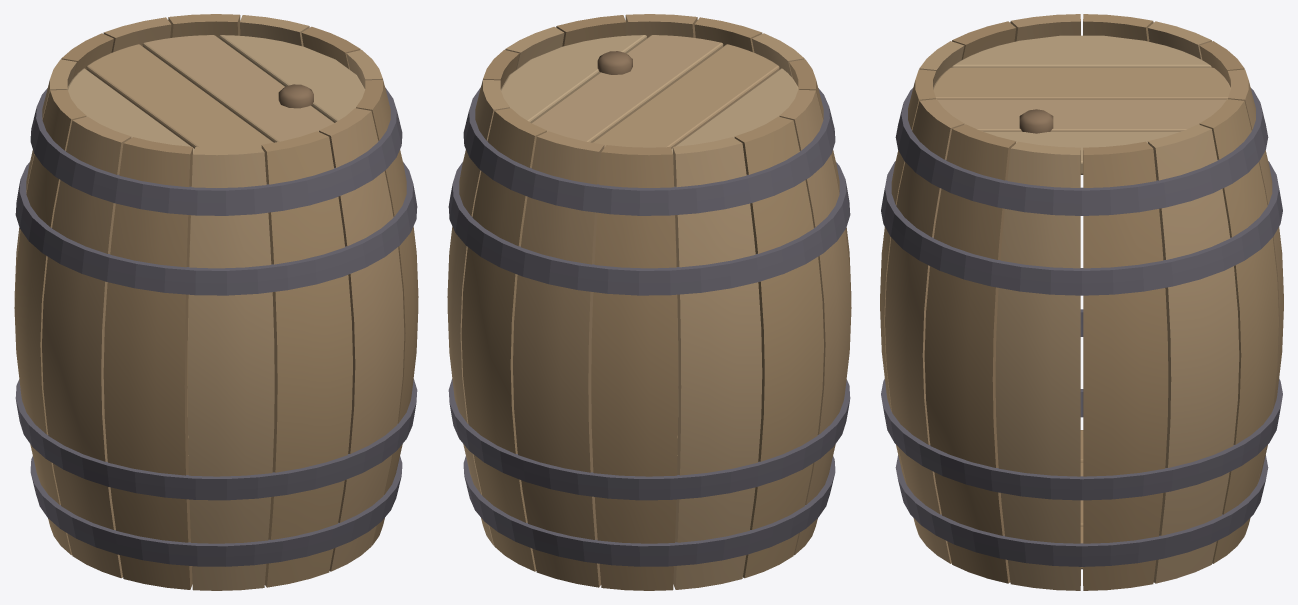
The model's file is supply_barrel.glb.
The picture shows the model from 3 angles, left to right: view 1: azimuth 30°, elevation 25°; view 2: azimuth 150°, elevation 25°; view 3: azimuth 270°, elevation 25°; orthographic projection.
Visible parts, largest first — view 1: supply_barrel; view 2: supply_barrel; view 3: supply_barrel.
Part boxes in pixels (box(x1,y1,x2,y2)): supply_barrel: box(14, 14, 418, 590); supply_barrel: box(447, 14, 851, 590); supply_barrel: box(880, 14, 1283, 590).
Bounding box in the file's own units: 0.8 × 0.95 × 0.7979.
